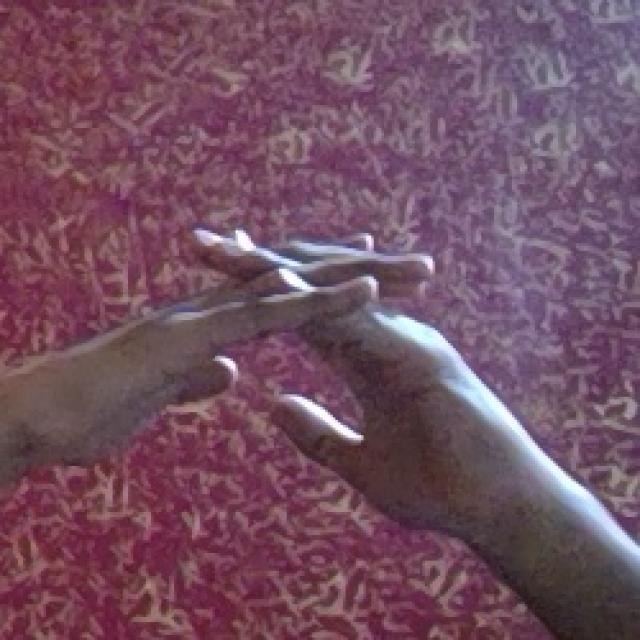Alphabet-W: (0, 185, 534, 536)
